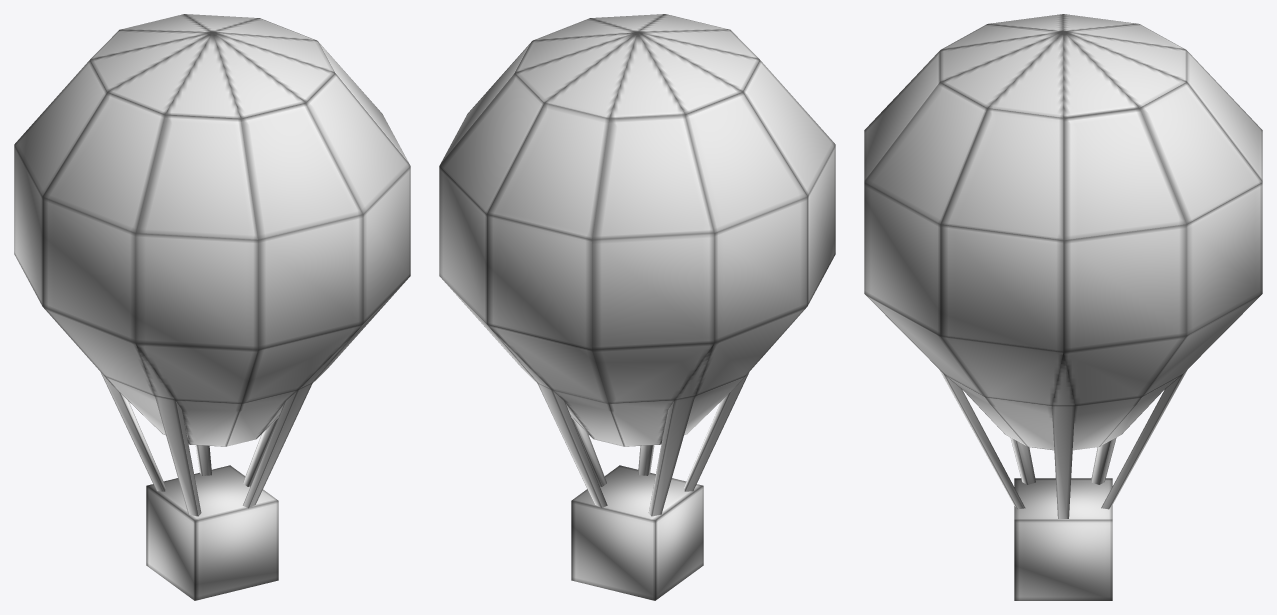
The model's file is Hotair-Baloon-01.fbx.
3 renders of one model, left to right at view 1: azimuth 30°, elevation 25°; view 2: azimuth 150°, elevation 25°; view 3: azimuth 270°, elevation 25°, orthographic.
Parts seen in each view (by area): view 1: Hotair-Baloon-01; view 2: Hotair-Baloon-01; view 3: Hotair-Baloon-01.
Boxes of the visible parts, <box> form: Hotair-Baloon-01: <box>14,14,410,600</box>; Hotair-Baloon-01: <box>439,14,835,600</box>; Hotair-Baloon-01: <box>864,14,1262,600</box>.
Size of the model in its own units: 1 by 1.52 by 1.
